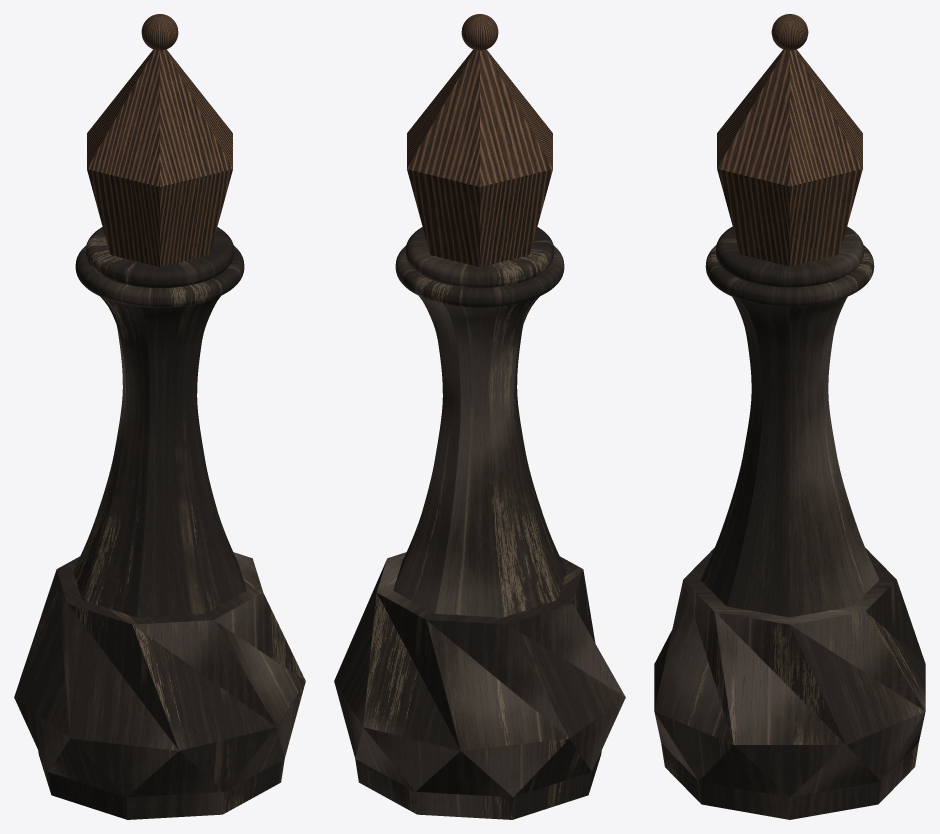
File: queen-black-hd.glb
The picture shows the model from 3 angles, left to right: view 1: azimuth 30°, elevation 25°; view 2: azimuth 150°, elevation 25°; view 3: azimuth 270°, elevation 25°; orthographic projection.
Visible parts, largest first — view 1: Lithoxyl_Queen_Onyx; view 2: Lithoxyl_Queen_Onyx; view 3: Lithoxyl_Queen_Onyx.
Boxes of the visible parts, bbox=[...] form: Lithoxyl_Queen_Onyx: bbox=[14, 14, 305, 819]; Lithoxyl_Queen_Onyx: bbox=[334, 14, 625, 819]; Lithoxyl_Queen_Onyx: bbox=[654, 14, 925, 819].
Size of the model in its own units: 0.5006 by 1.53 by 0.5006.
2 materials, 2 textured.
